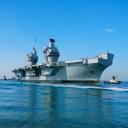Portanaves: (12, 38, 115, 86)
